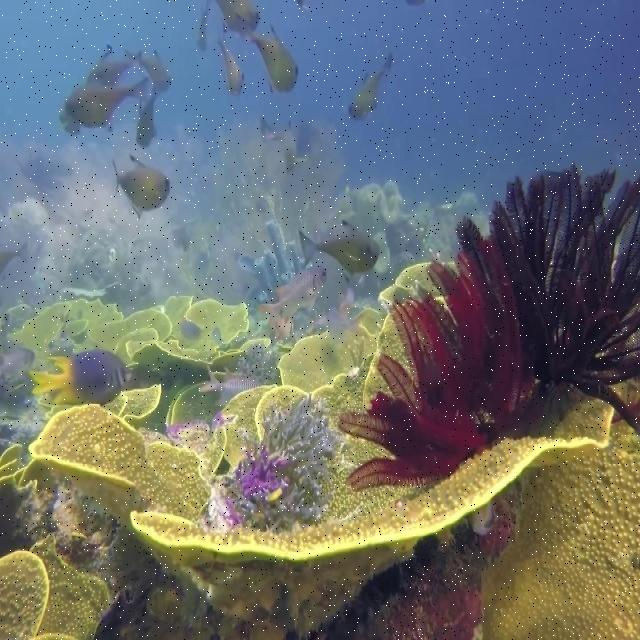fish: (29, 350, 132, 405), (258, 268, 328, 325), (112, 153, 170, 221), (244, 24, 298, 94), (67, 84, 148, 127), (299, 231, 379, 272), (348, 52, 393, 121), (198, 366, 256, 405), (218, 39, 246, 94)
reefs: (30, 314, 615, 637), (338, 163, 639, 488), (317, 421, 638, 638), (7, 295, 270, 373), (224, 397, 338, 532), (0, 534, 110, 639), (239, 222, 304, 301)
